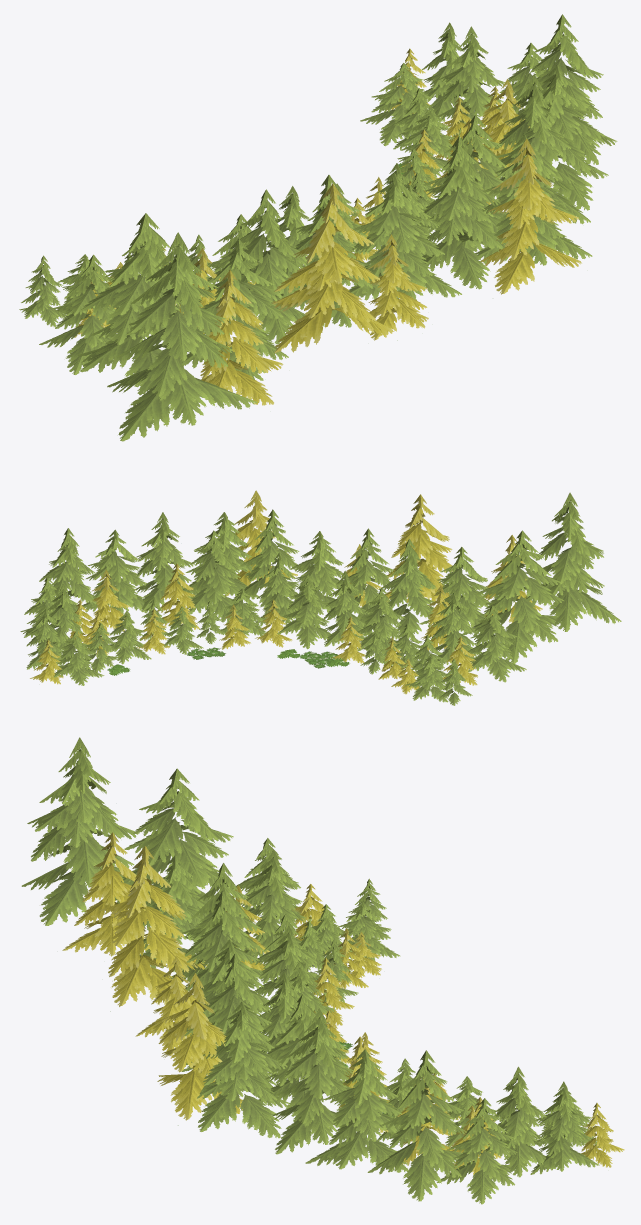
File: area_01_14.fbx
3 renders of one model, top to bottom at view 1: azimuth 30°, elevation 25°; view 2: azimuth 150°, elevation 25°; view 3: azimuth 270°, elevation 25°, orthographic. The views are drawn at different scales.
Visible parts, largest first — view 1: area_01_14; view 2: area_01_14; view 3: area_01_14.
Boxes of the visible parts, x1=… form: area_01_14: x1=19, y1=14, x2=617, y2=441; area_01_14: x1=20, y1=490, x2=621, y2=705; area_01_14: x1=21, y1=737, x2=624, y2=1204.
Bounding box in the file's own units: 61.16 × 18.02 × 49.6.
